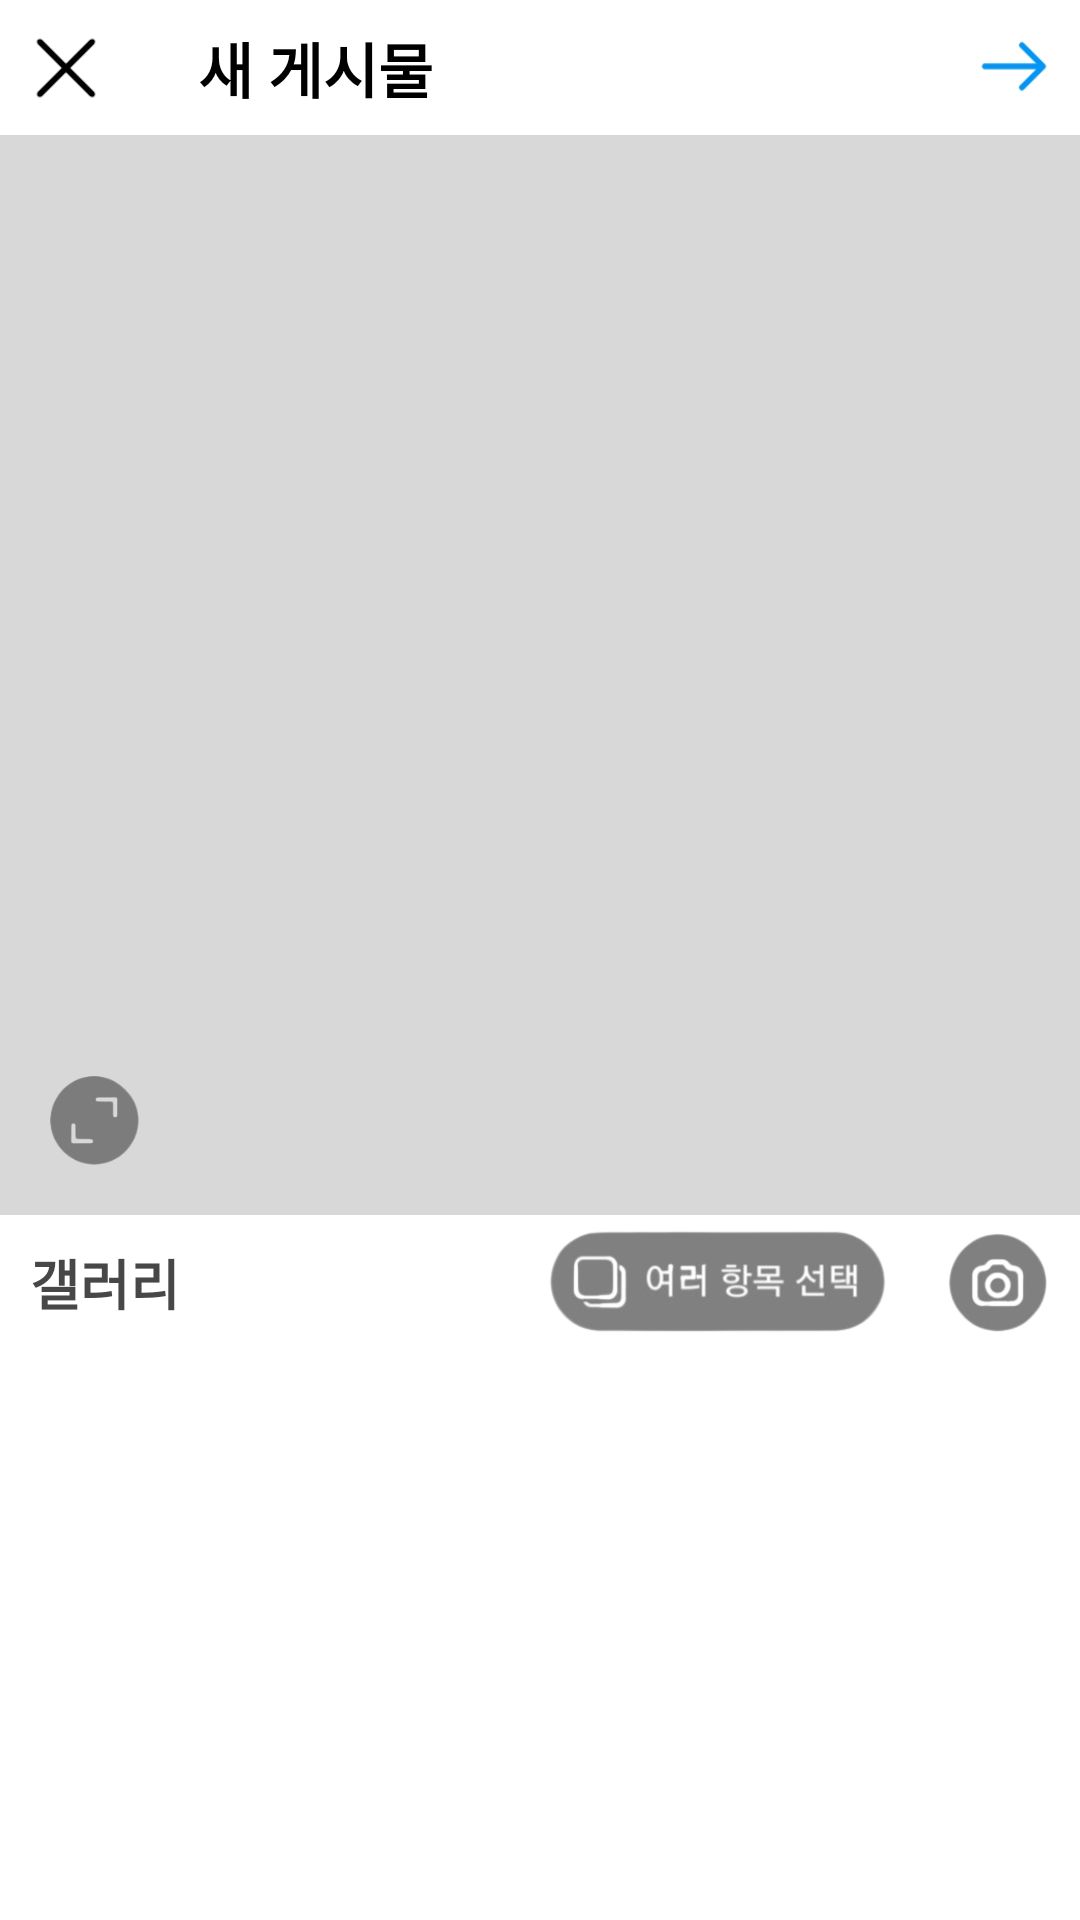

Icon bounding boxes for this 1080×1920 phone screenshot, format (x1, y1, x2, y2):
close: (36, 38, 96, 98)
next: (981, 41, 1047, 92)
post camera: (949, 1234, 1047, 1331)
post resize: (50, 1076, 139, 1165)
